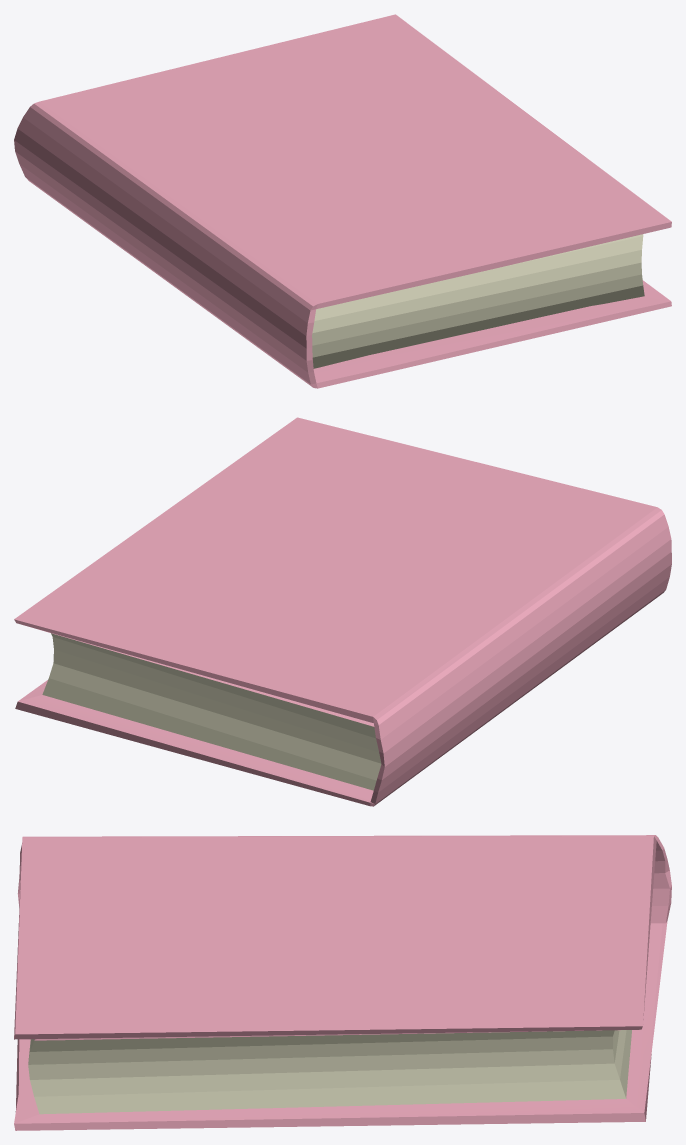
The model's file is PastelPinkBook.fbx.
3 renders of one model, top to bottom at view 1: azimuth 30°, elevation 25°; view 2: azimuth 150°, elevation 25°; view 3: azimuth 270°, elevation 25°, orthographic. The views are drawn at different scales.
Visible parts, largest first — view 1: Cube; view 2: Cube; view 3: Cube.
Boxes of the visible parts, box(x1,y1,x2,y2) form: Cube: box(14, 14, 671, 388); Cube: box(14, 417, 671, 806); Cube: box(14, 835, 671, 1130).
Size of the model in its own units: 182 by 42.66 by 245.
